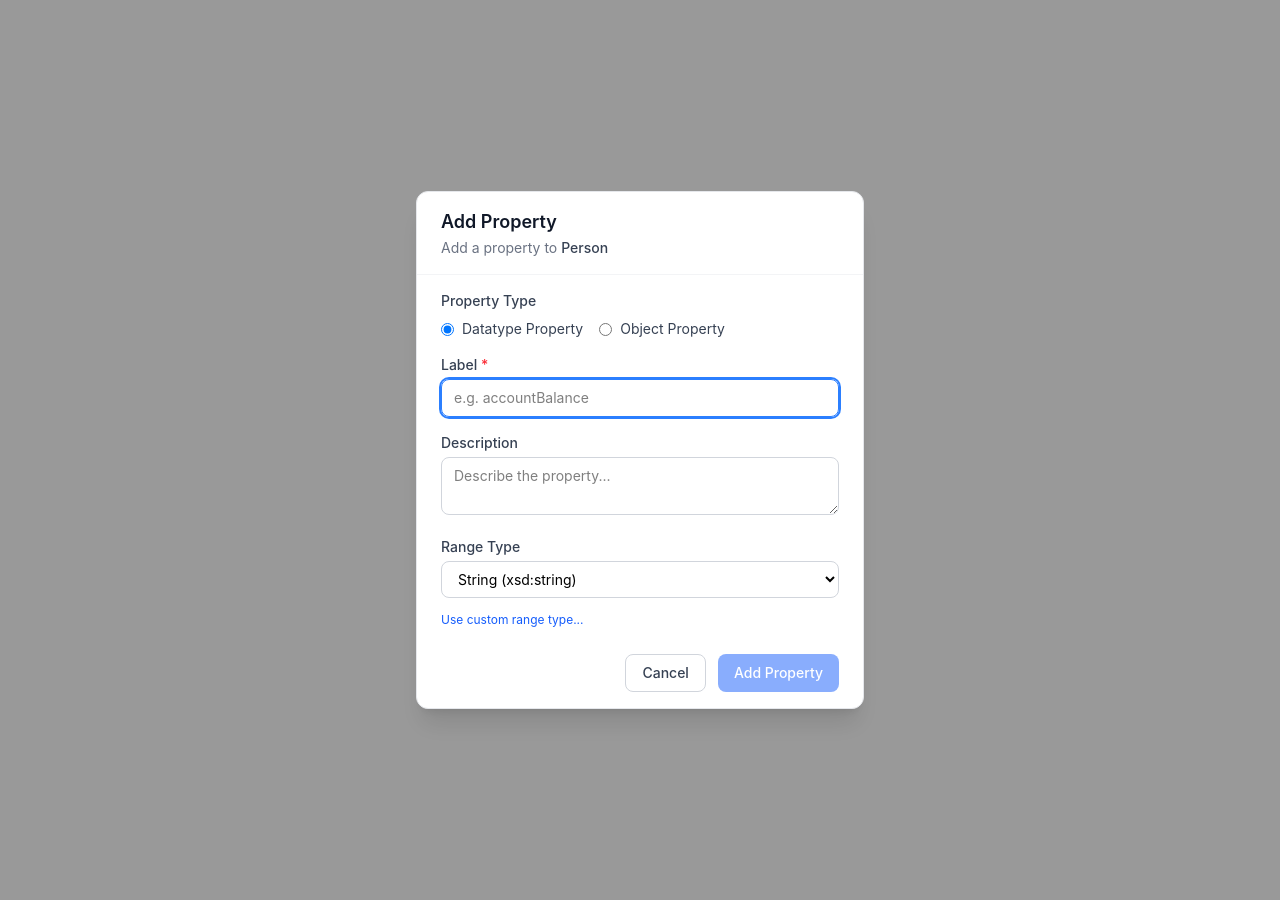
AddPropertyDialog › displays error on API failure
Type "bad-prop" into the field with test id "property-label-input" at (640, 398), box [441,379,839,417]
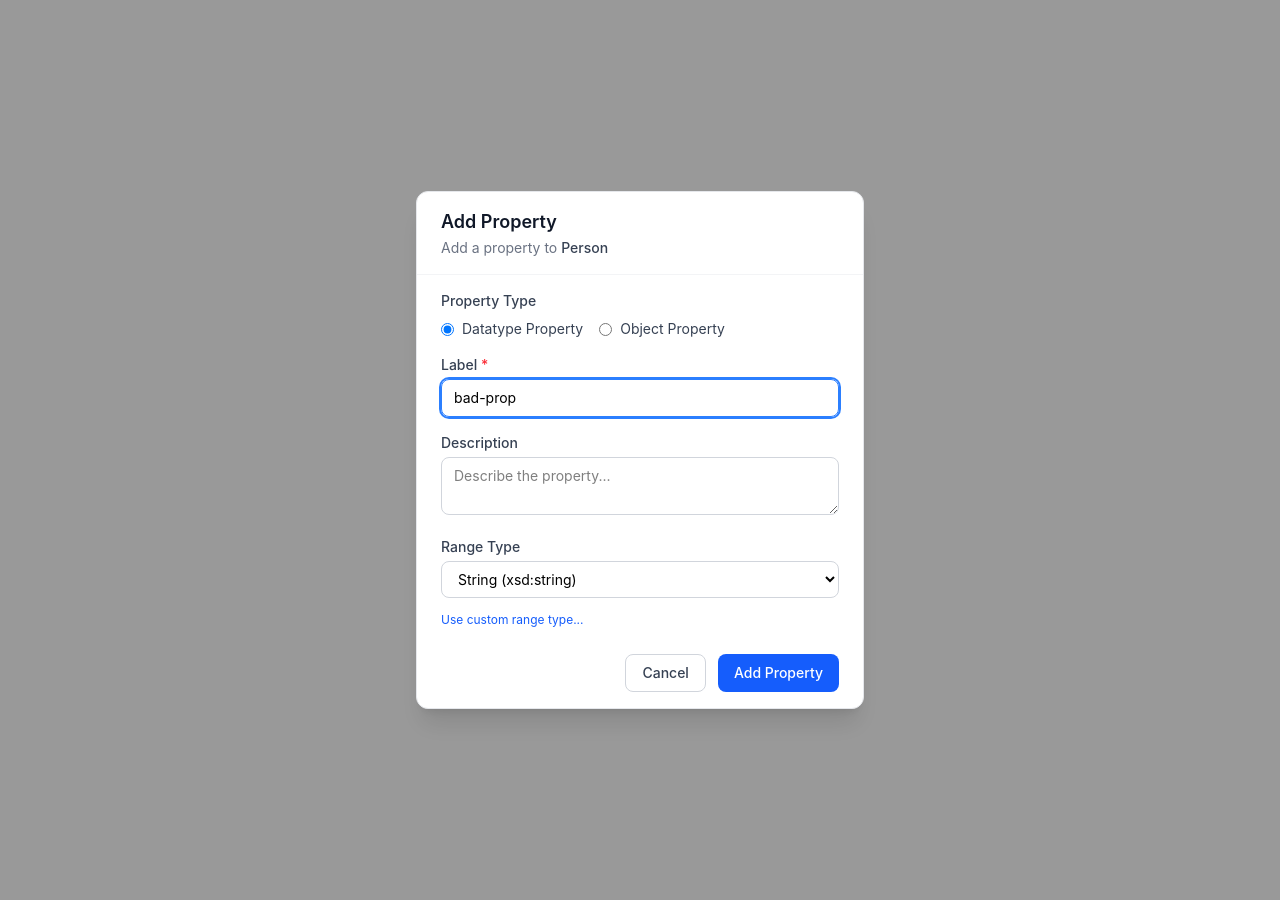
Click the button with test id "add-property-btn" at (778, 673), box [718,654,839,692]
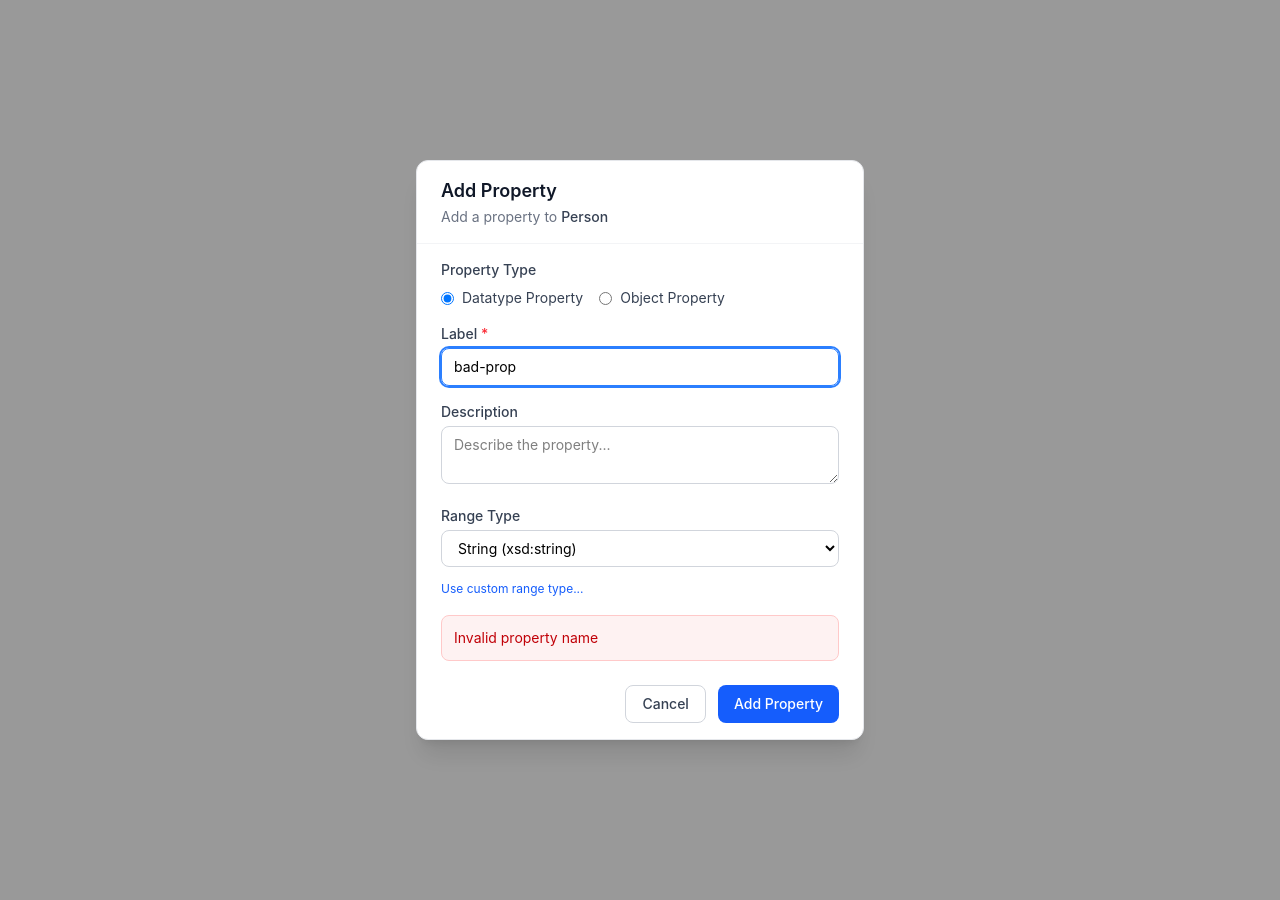
Expected: the text with test id "property-error" reads "Invalid property name", [454,629,598,646]
